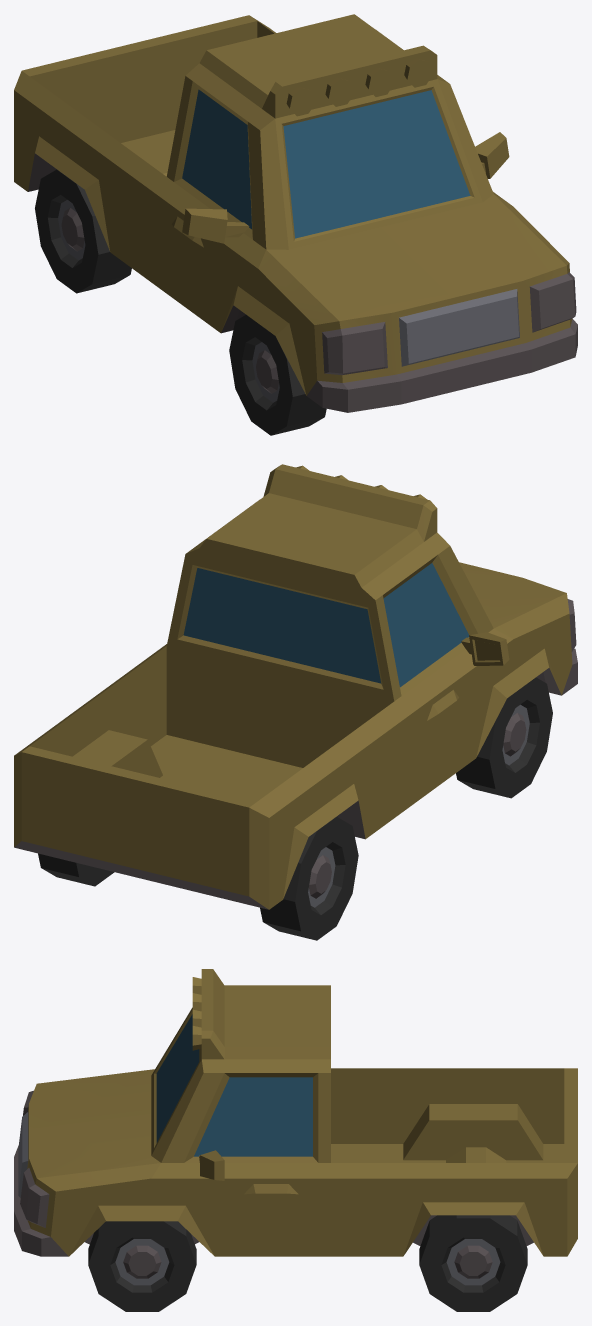
File: LP_VehicleL.fbx
3 views of the same model, one above another, from view 1: azimuth 30°, elevation 25°; view 2: azimuth 150°, elevation 25°; view 3: azimuth 270°, elevation 25° (orthographic). The views are drawn at different scales.
Parts seen in each view (by area): view 1: VehicleL; view 2: VehicleL; view 3: VehicleL.
Boxes of the visible parts, bbox=[...] form: VehicleL: bbox=[14, 14, 577, 435]; VehicleL: bbox=[14, 464, 577, 940]; VehicleL: bbox=[14, 969, 577, 1311].
Bounding box in the file's own units: 203 × 183 × 362.
